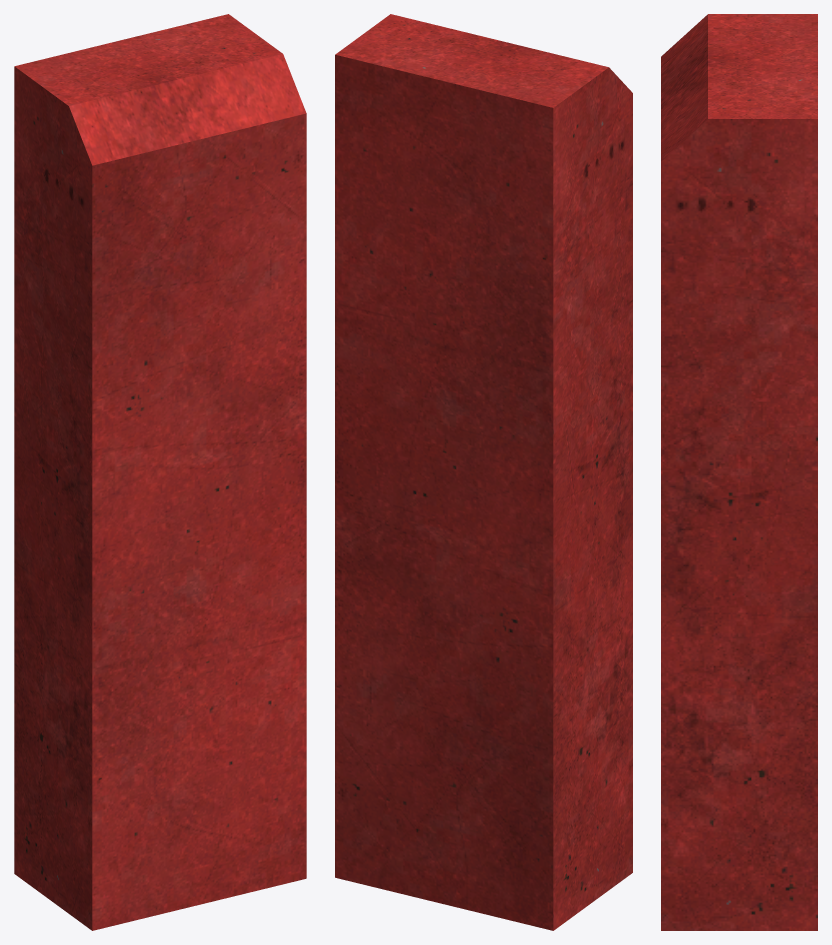
File: Ob_ScafDetail2_RC.fbx
The picture shows the model from 3 angles, left to right: view 1: azimuth 30°, elevation 25°; view 2: azimuth 150°, elevation 25°; view 3: azimuth 270°, elevation 25°; orthographic projection.
Parts seen in each view (by area): view 1: Ob_ScafDetail2_RC; view 2: Ob_ScafDetail2_RC; view 3: Ob_ScafDetail2_RC.
Boxes of the visible parts, x1=… form: Ob_ScafDetail2_RC: x1=14, y1=14, x2=306, y2=930; Ob_ScafDetail2_RC: x1=335, y1=14, x2=632, y2=930; Ob_ScafDetail2_RC: x1=661, y1=14, x2=817, y2=930.
Size of the model in its own units: 473 by 1702 by 298.
